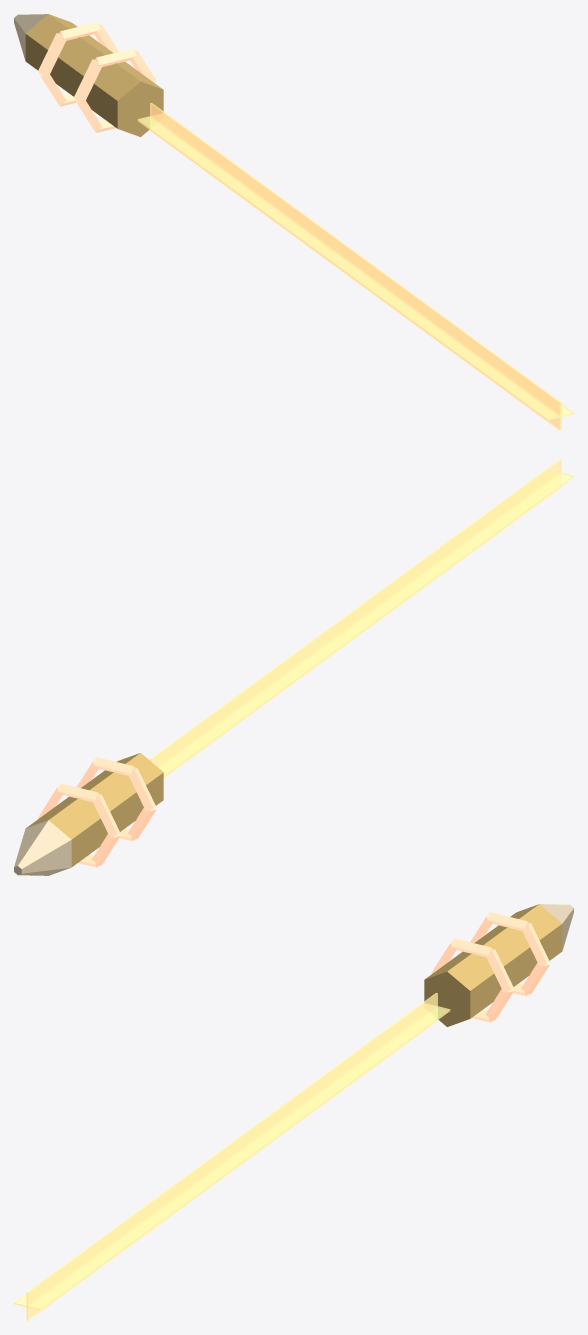
Rendered from Proj_AegisRailSlug.fbx.
3 views of the same model, one above another, from view 1: azimuth 30°, elevation 25°; view 2: azimuth 150°, elevation 25°; view 3: azimuth 330°, elevation 25° (orthographic).
Parts seen in each view (by area): view 1: Slug_TrailV, Slug_Trail, Slug_Body, Slug_Ring0, Slug_Ring1, Slug_Tip; view 2: Slug_TrailV, Slug_Trail, Slug_Body, Slug_Tip, Slug_Ring1, Slug_Ring0; view 3: Slug_TrailV, Slug_Trail, Slug_Body, Slug_Ring0, Slug_Ring1, Slug_Tip.
Boxes of the visible parts, box(x1,y1,x2,y2) form: Slug_TrailV: box(150, 103, 561, 430); Slug_Trail: box(137, 113, 573, 420); Slug_Body: box(25, 14, 163, 136); Slug_Ring0: box(74, 48, 156, 132); Slug_Ring1: box(38, 22, 118, 106); Slug_Tip: box(14, 14, 47, 60); Slug_TrailV: box(150, 459, 561, 777); Slug_Trail: box(150, 469, 573, 776); Slug_Body: box(26, 753, 163, 866); Slug_Tip: box(14, 820, 71, 875); Slug_Ring1: box(38, 783, 120, 867); Slug_Ring0: box(77, 757, 156, 841); Slug_TrailV: box(26, 993, 437, 1320); Slug_Trail: box(14, 1003, 450, 1310); Slug_Body: box(424, 904, 562, 1026); Slug_Ring0: box(431, 938, 513, 1022); Slug_Ring1: box(470, 912, 549, 996); Slug_Tip: box(540, 904, 573, 950).
Size of the model in its own units: 0.09 by 0.0813 by 1.06.
